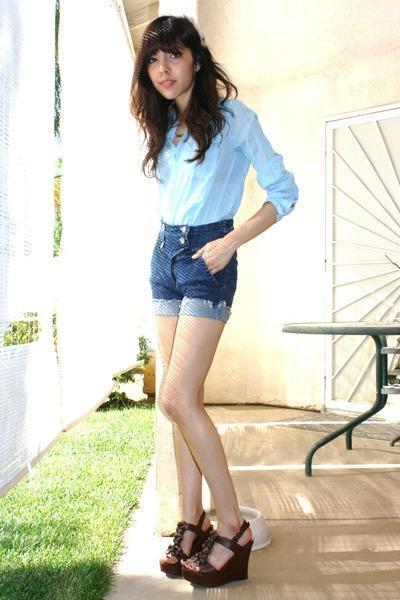Shorts: (126, 216, 242, 318)
long sleeve shirt: (148, 96, 301, 232)
